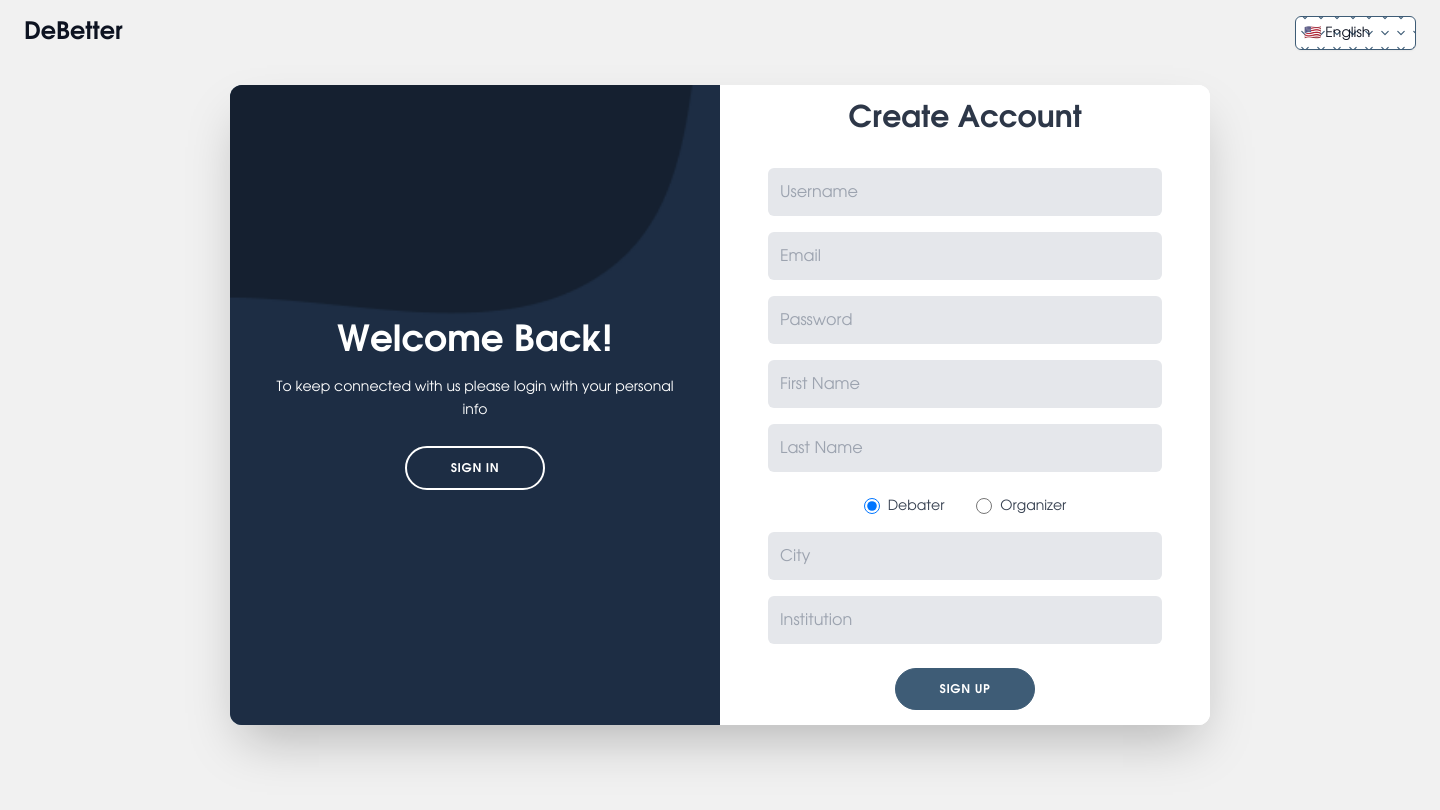
Scenario: AuthPage sign-up › surfaces the backend message verbatim when the error body is JSON
The width and height of the screenshot is (1440, 810).
Type "nurassyl" into the field with id "auth-signup-name" at (965, 192), box [768, 168, 1162, 216]
Type "nurassyl@example.com" into the field with placeholder "Email" at (965, 256), box [768, 232, 1162, 280]
Type "Test12345!" into the password field with placeholder "Password" at (965, 320), box [768, 296, 1162, 344]
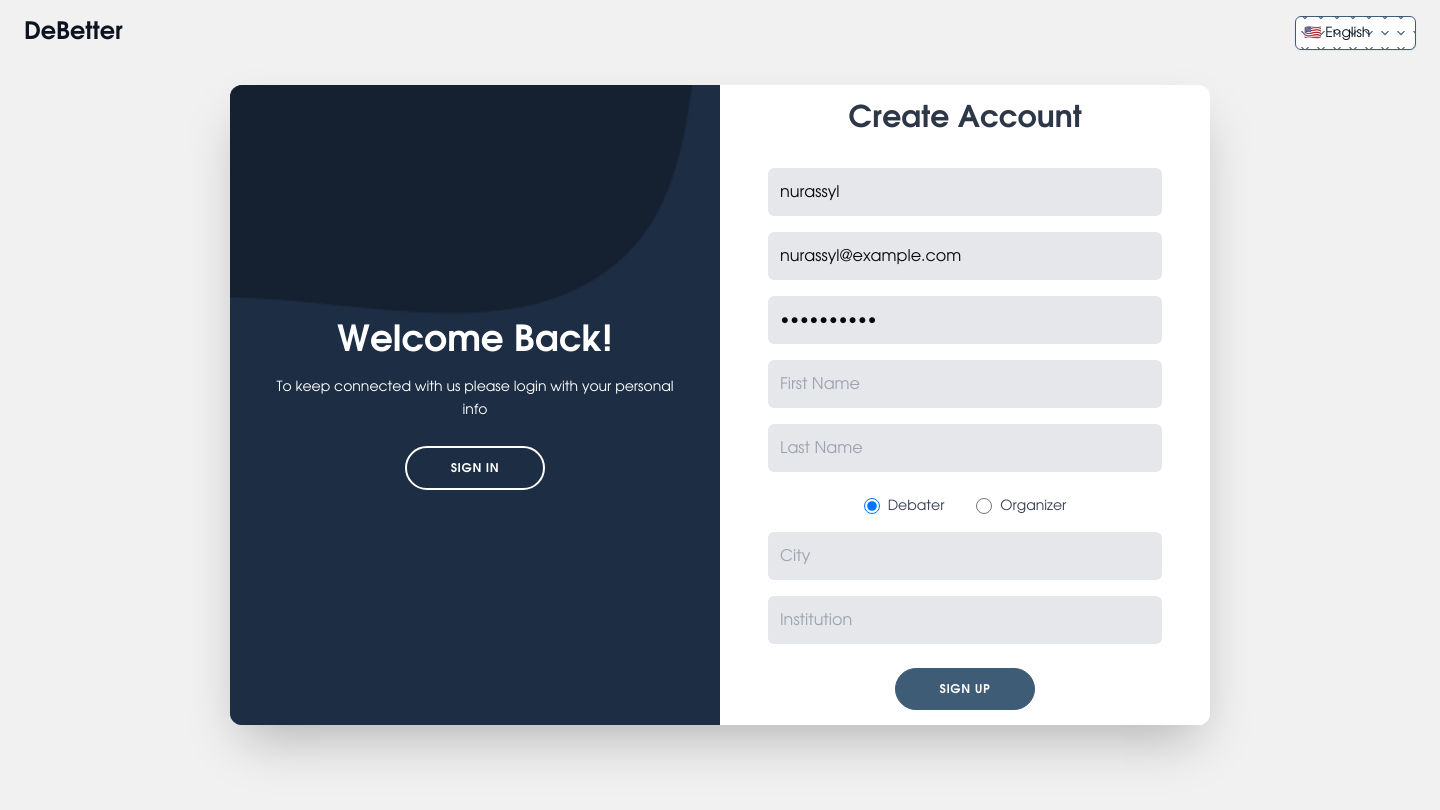
Type "Nurassyl" into the field with placeholder "First Name" at (965, 384), box [768, 360, 1162, 408]
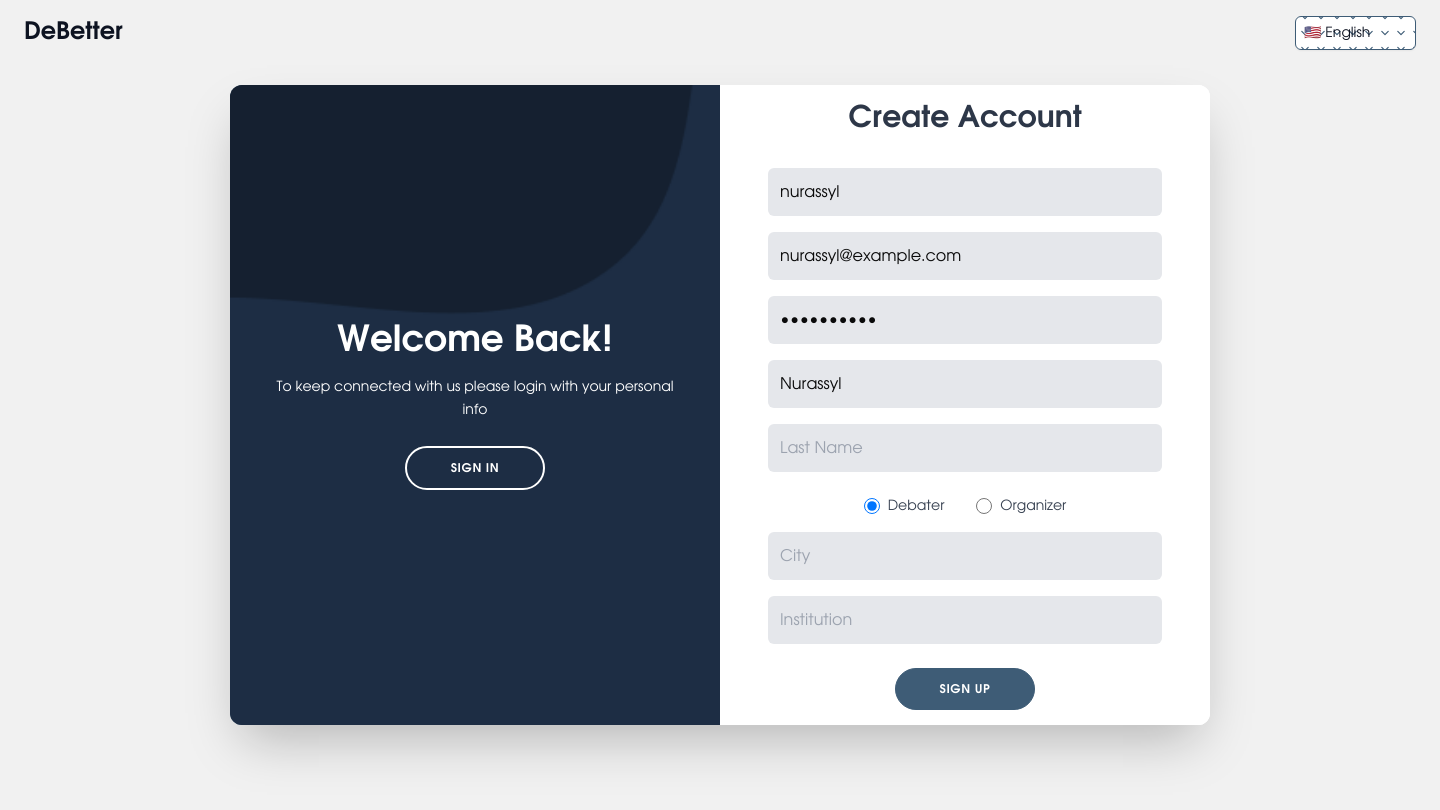
Type "Tursymbayev" into the field with placeholder "Last Name" at (965, 448), box [768, 424, 1162, 472]
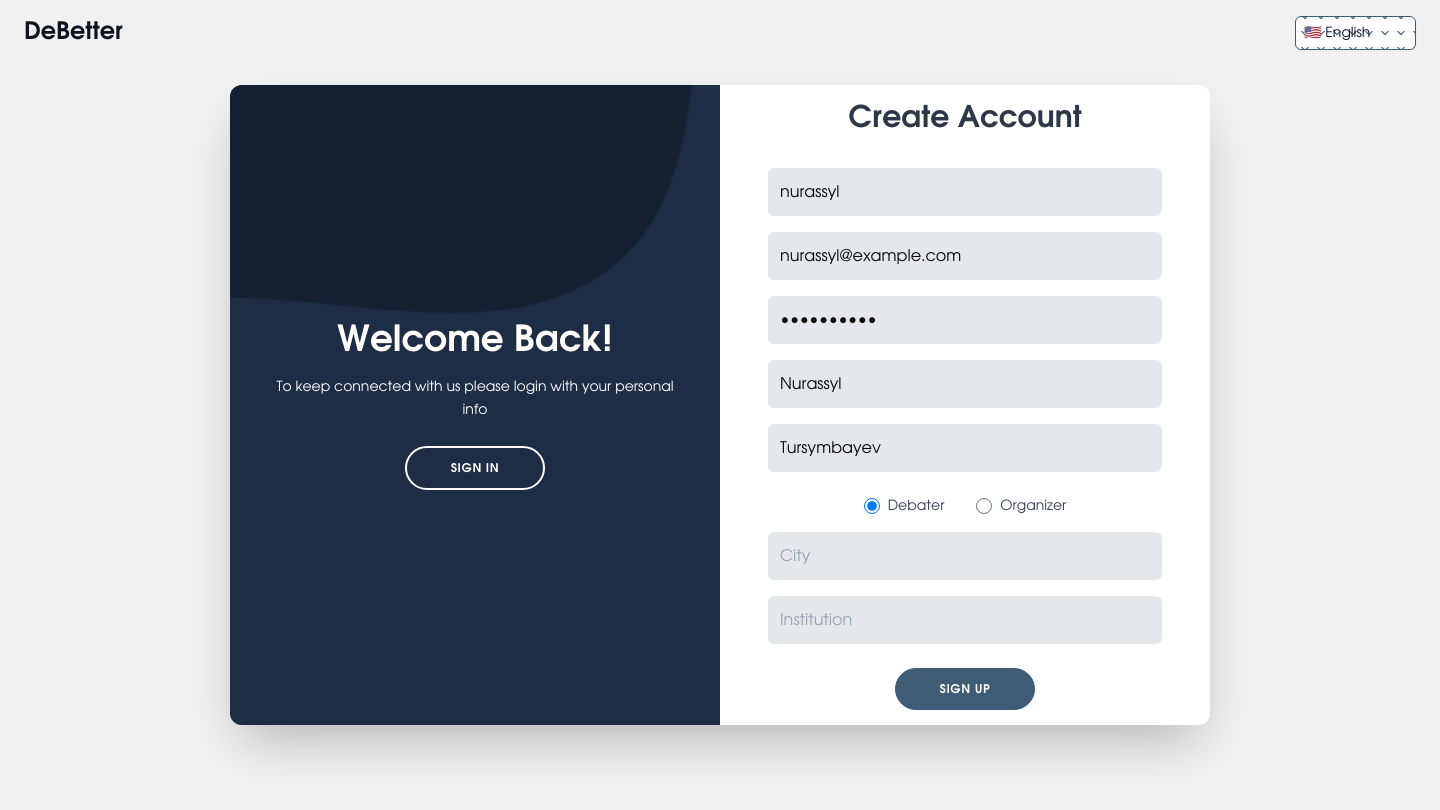
Type "Almaty" into the field with placeholder "City" at (965, 556), box [768, 532, 1162, 580]
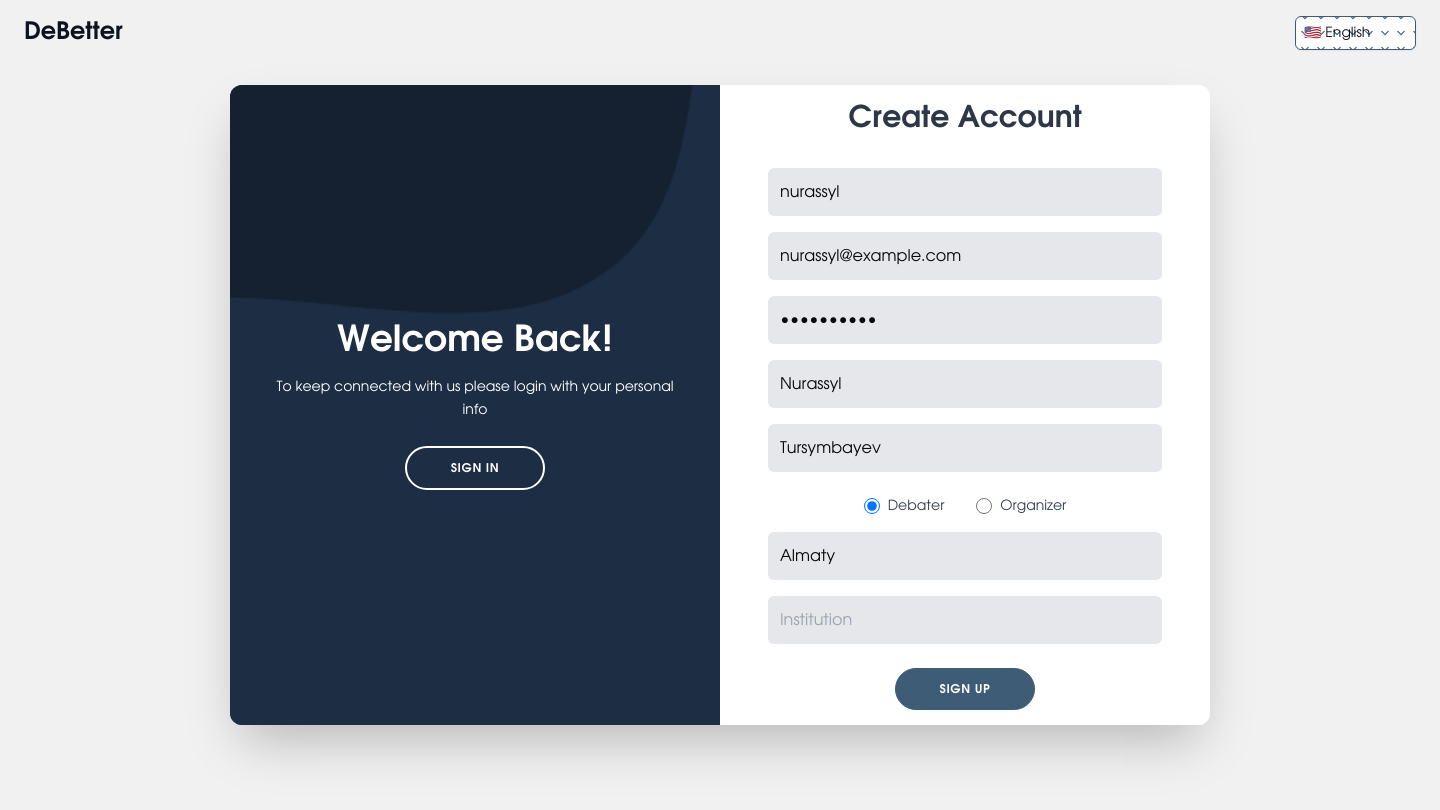
Type "NIS" into the field with placeholder "Institution" at (965, 620), box [768, 596, 1162, 644]
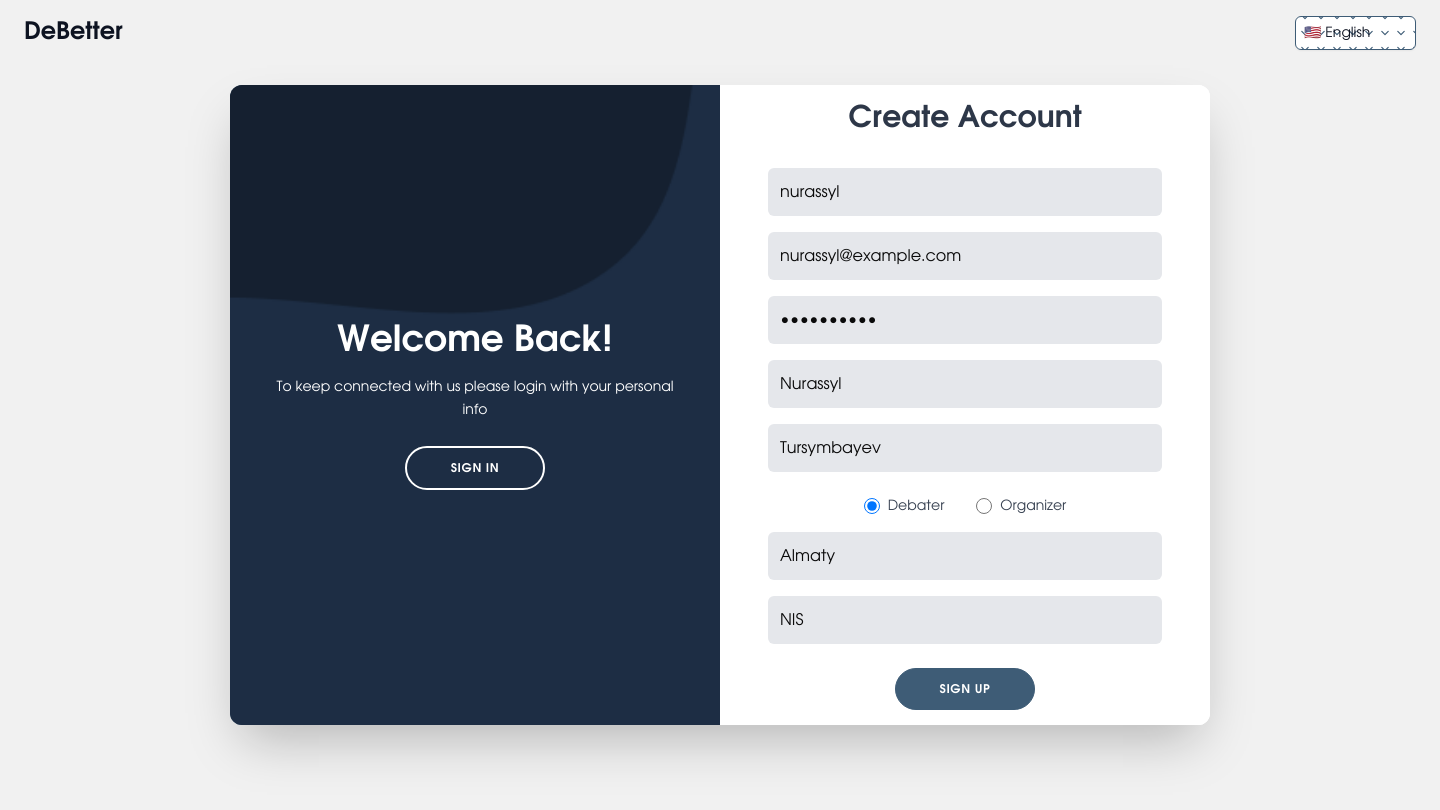
Submit the form with id "auth-signup-name", box [720, 85, 1210, 725]
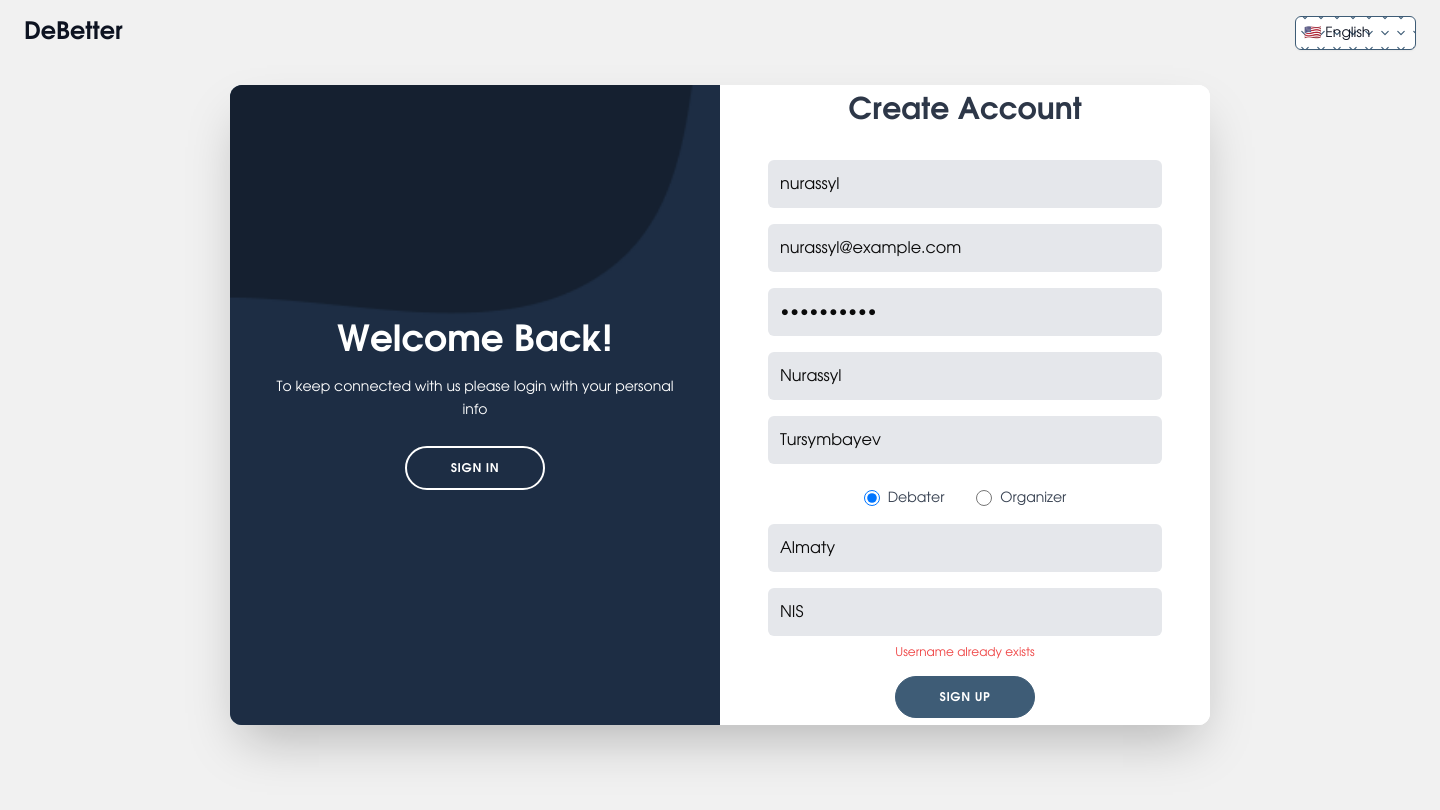
expect the text "Username already exists" is shown: met, box [895, 644, 1035, 660]
